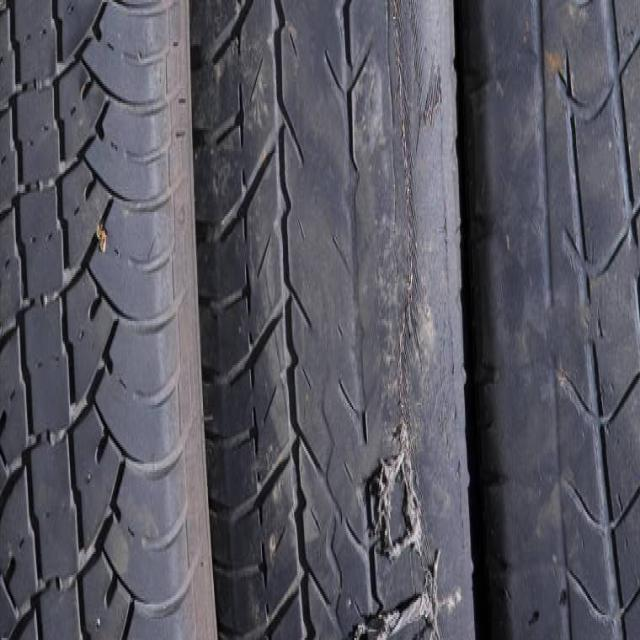Flat spots: (188, 0, 476, 639), (466, 0, 608, 640), (258, 0, 448, 411)
